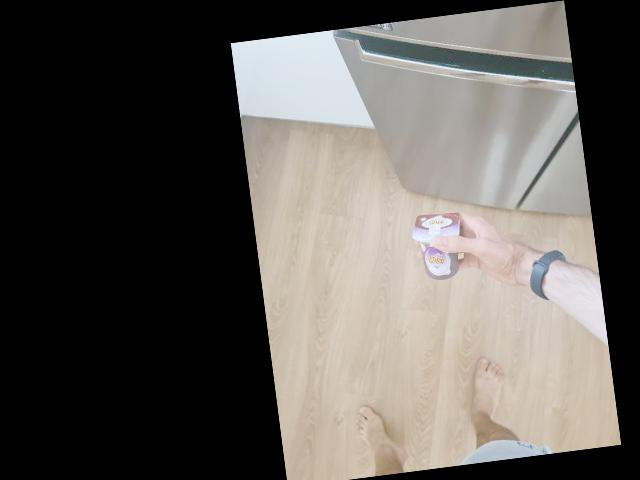milky: (409, 208, 471, 285)
